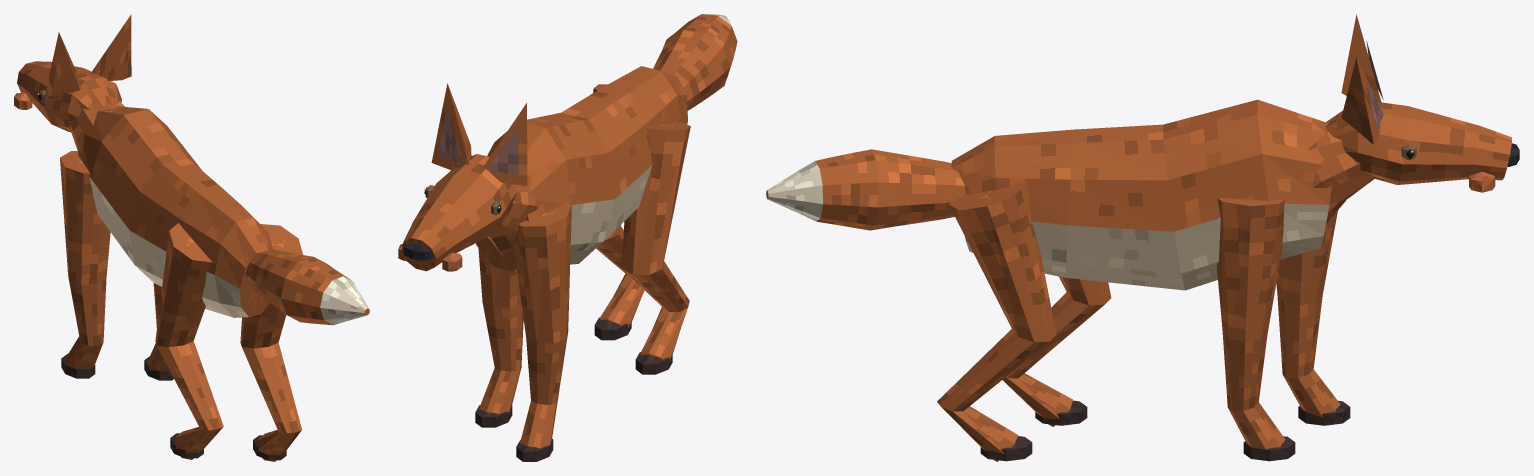
Rendered from mon_fox_red.glb.
The picture shows the model from 3 angles, left to right: view 1: azimuth 30°, elevation 25°; view 2: azimuth 150°, elevation 25°; view 3: azimuth 270°, elevation 25°; orthographic projection. The views are drawn at different scales.
Parts seen in each view (by area): view 1: closed_body; view 2: closed_body; view 3: closed_body.
Boxes of the visible parts, x1,y1,x2,y2 form: closed_body: [14, 14, 369, 461]; closed_body: [398, 14, 737, 461]; closed_body: [766, 14, 1519, 461].
Bounding box in the file's own units: 0.1561 × 0.4927 × 0.8256.
1 material, 1 textured.
